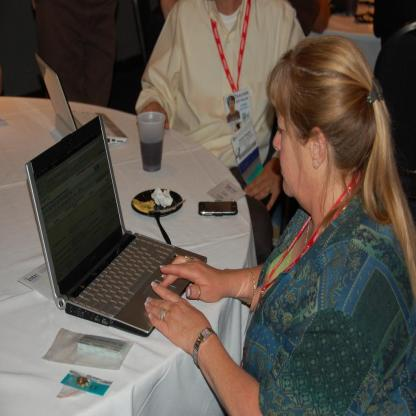board: (25, 113, 207, 336), (139, 112, 166, 172)
